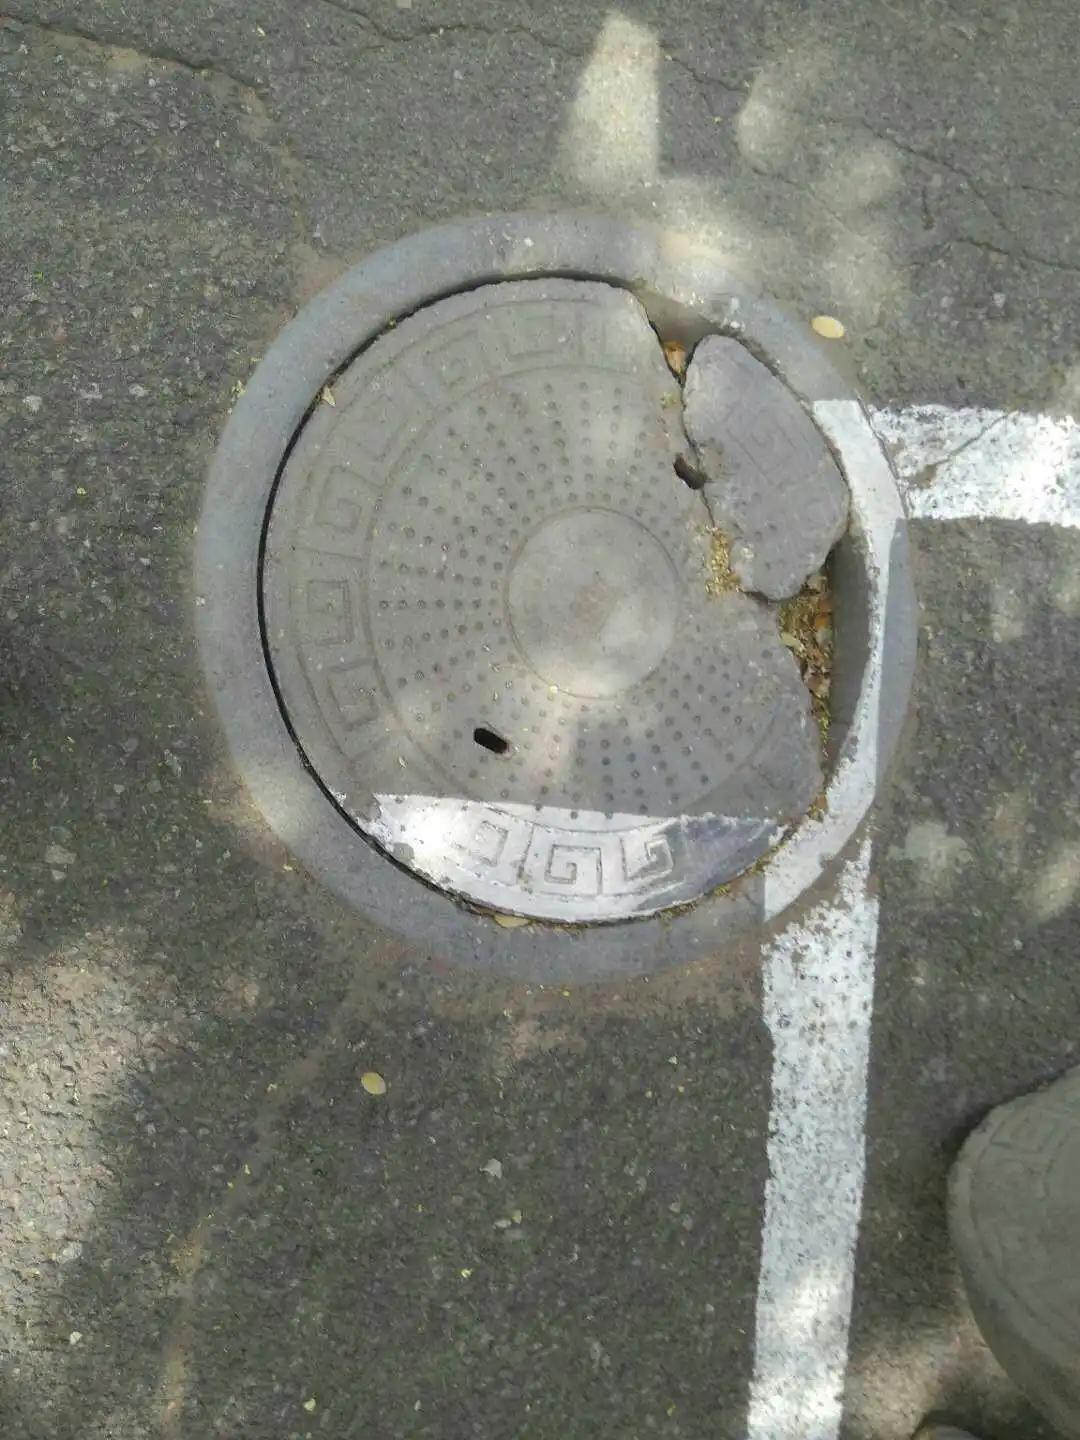wellcover: (191, 251, 893, 968)
